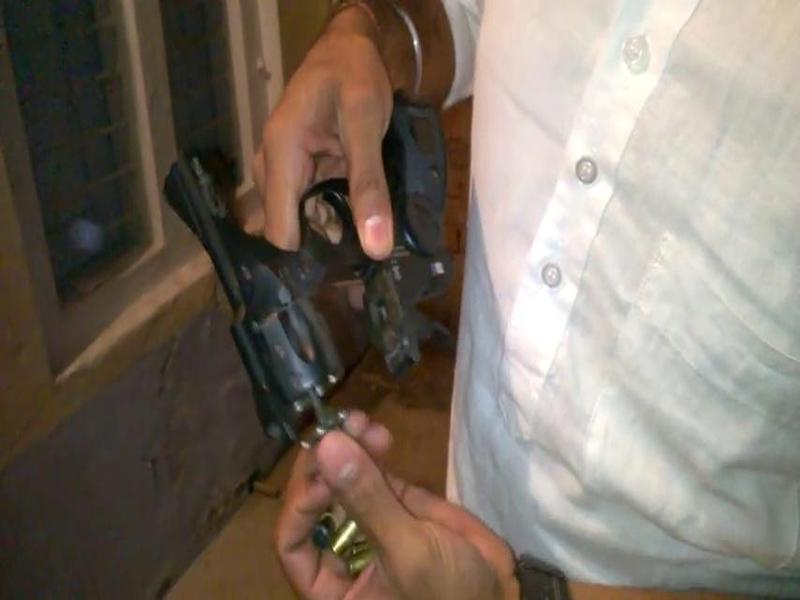Revolver: (155, 120, 352, 487)
